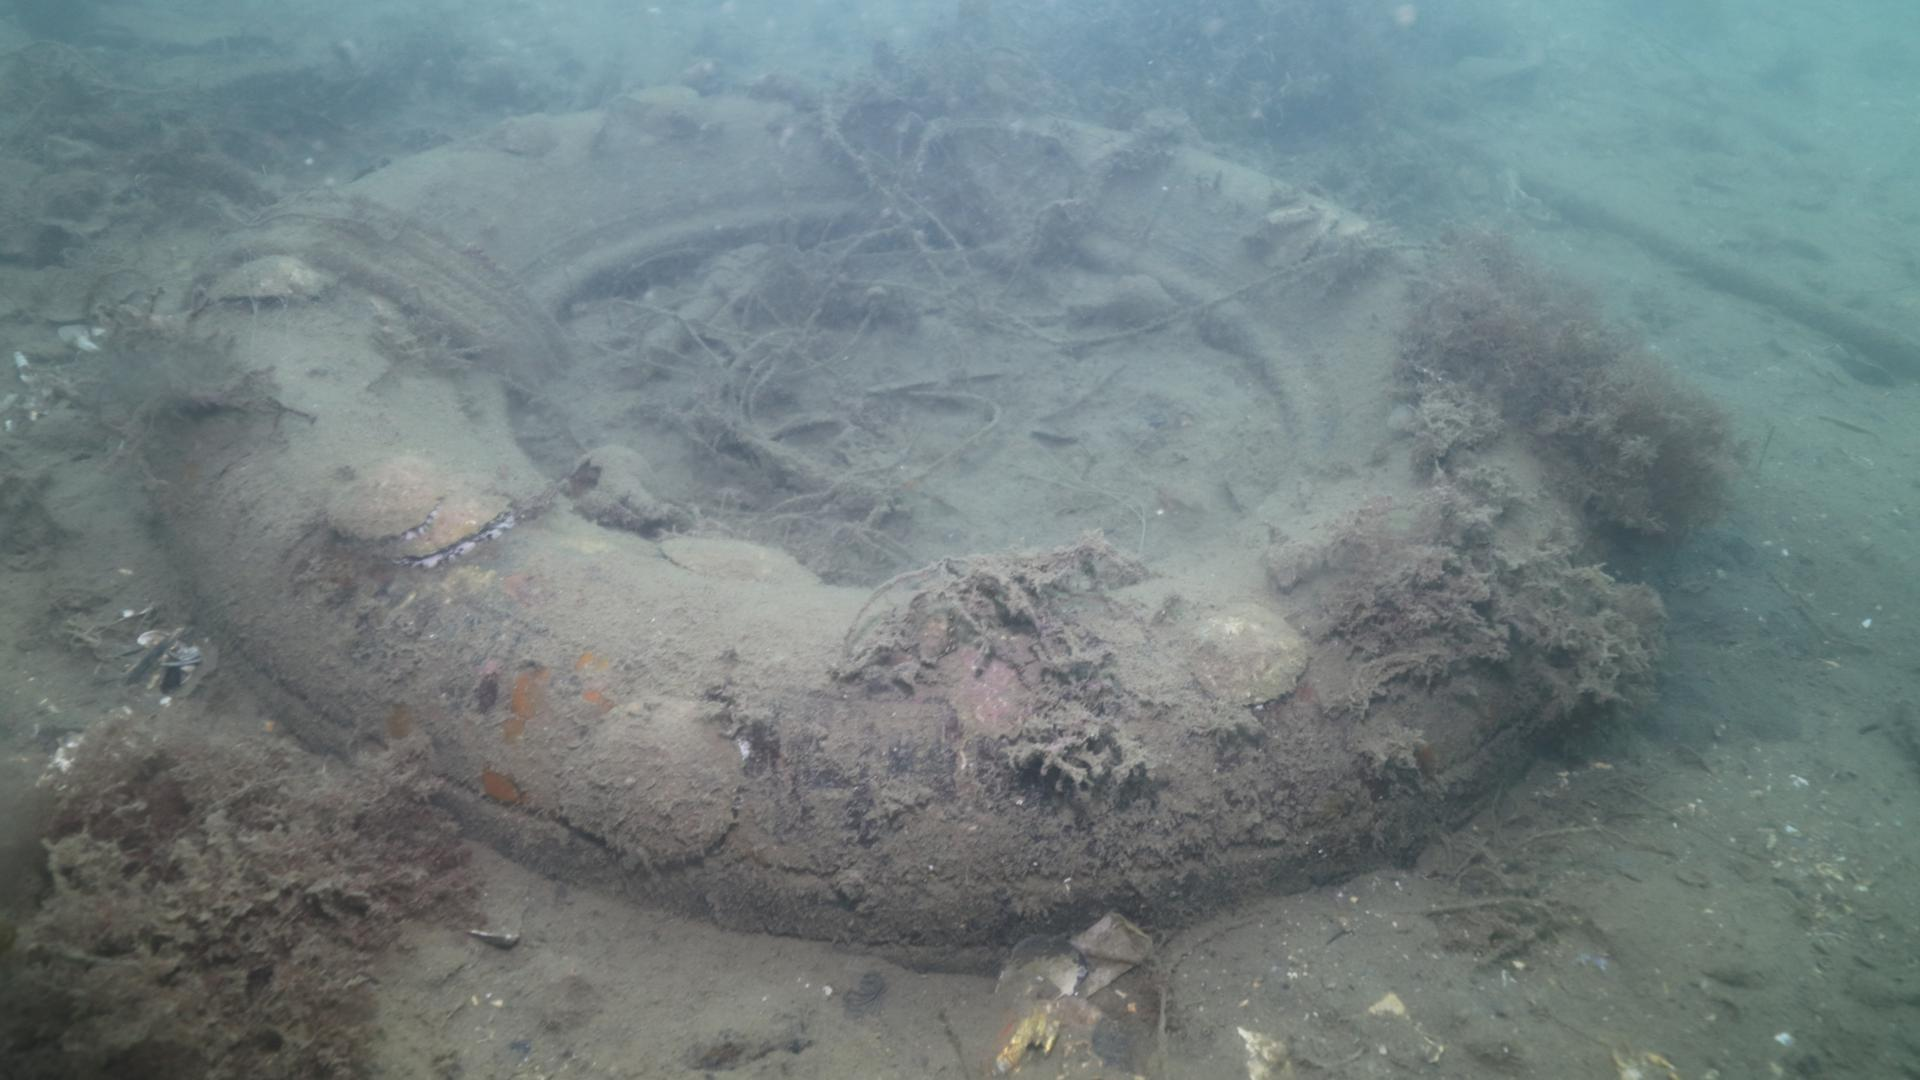tire: (164, 95, 1629, 938)
